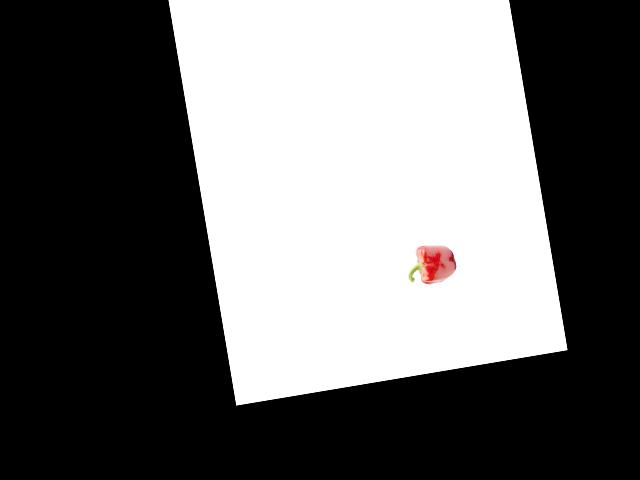bell_pepper: (402, 238, 461, 290)
